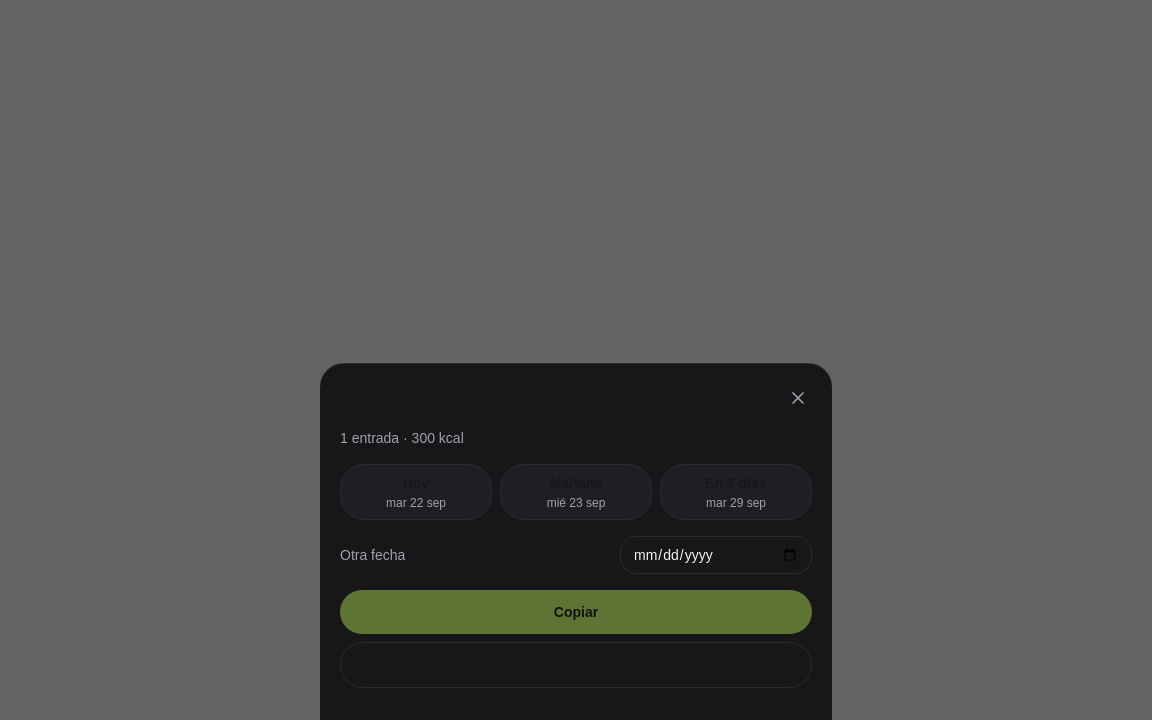
Scenario: R3: aviso cuando el destino ya tiene entradas › en singular: «ya tiene 1 entrada» y «Sumar la entrada»
This screenshot has width=1152, height=720.
Click the button "Hoy mar 22 sep": x=416, y=492 [340,464,492,520]
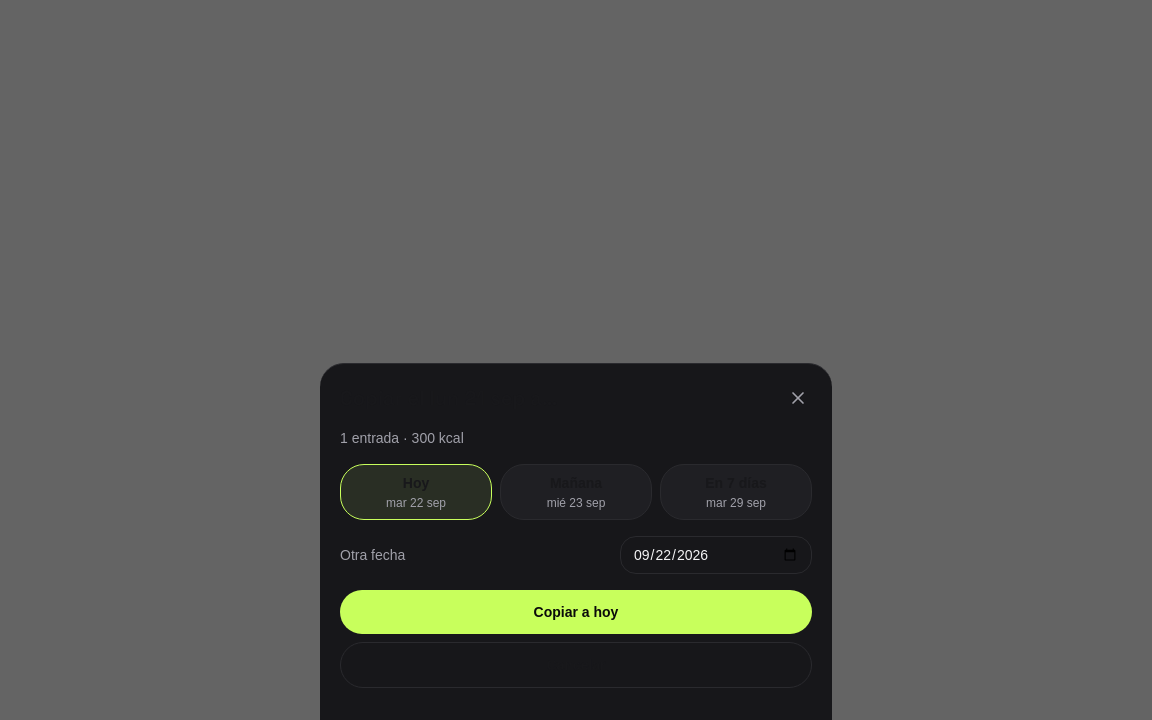
Click the button "Copiar a hoy": x=576, y=612 [340,590,812,634]
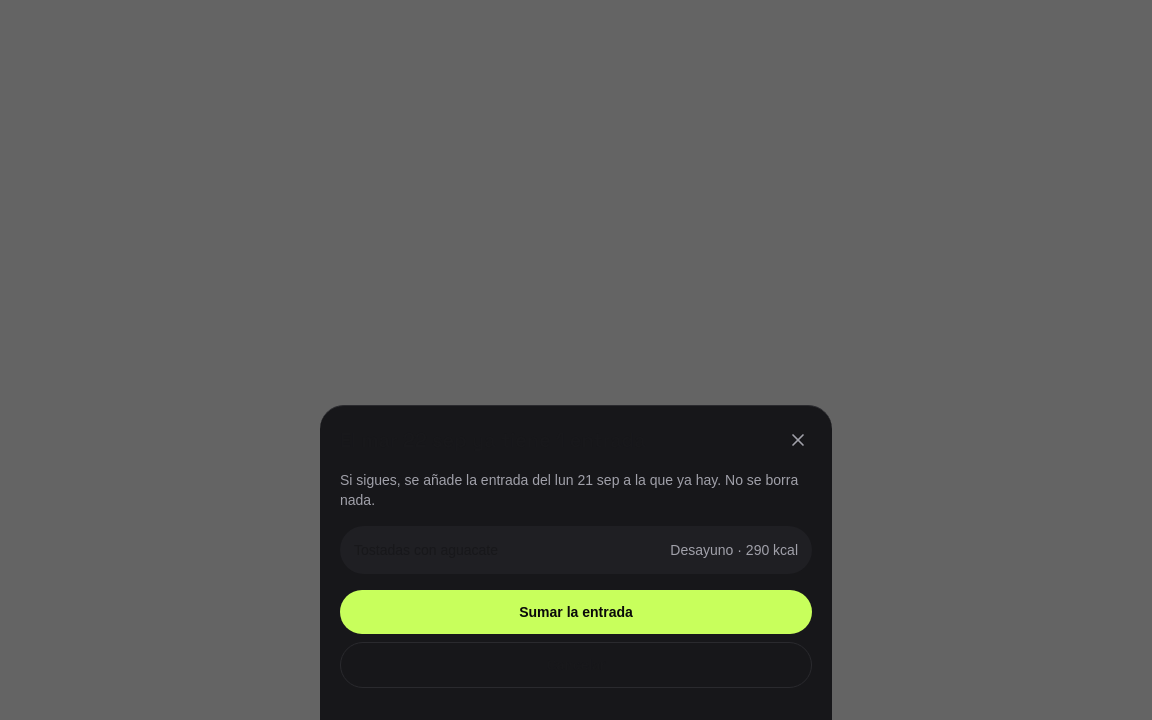
Now the dialog "El mar 22 sep ya tiene 1 entrada" is shown, box [320,405,832,719]
Now the button "Sumar la entrada" is shown, box [340,590,812,634]
